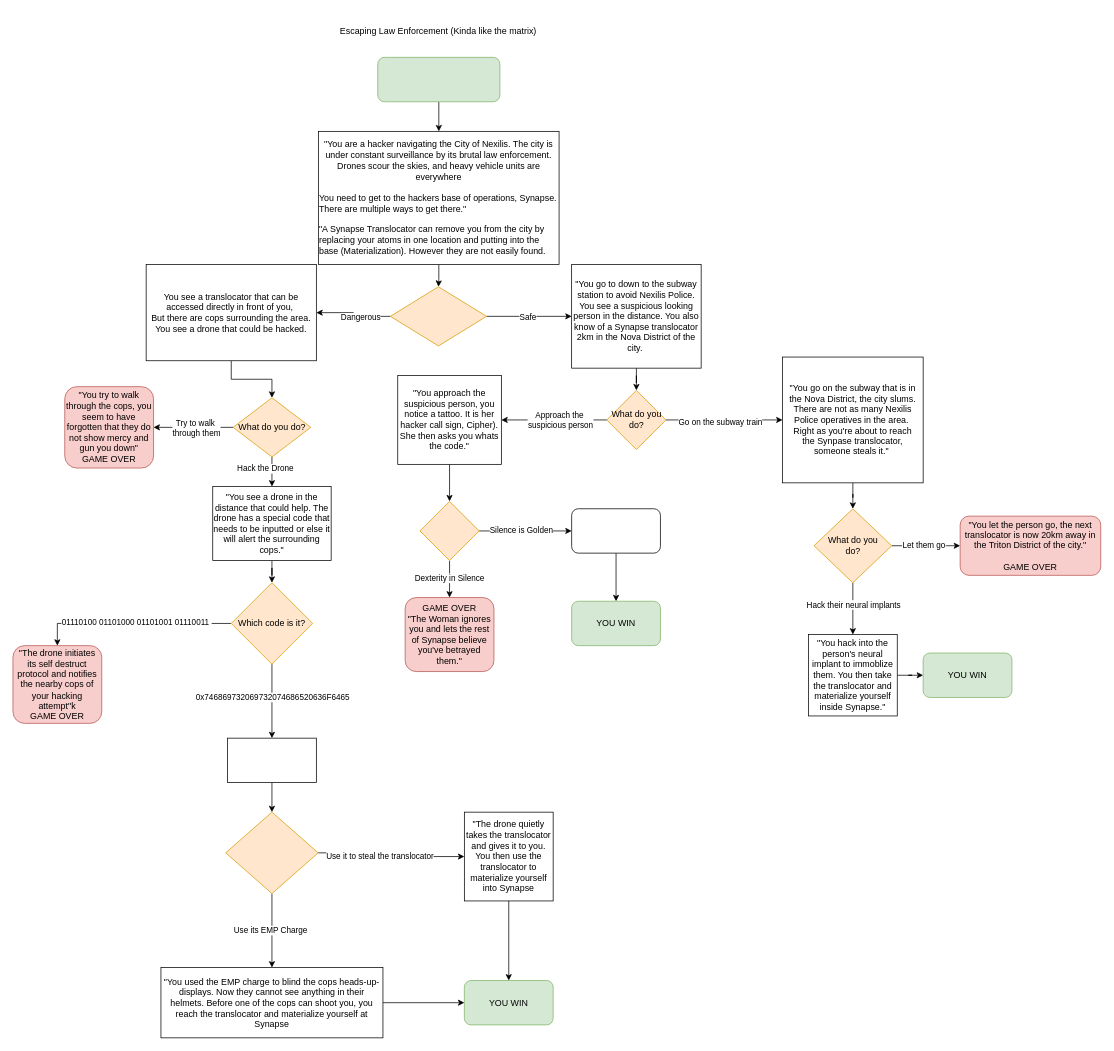
Some shapes in this 1114 by 1051 pixel diagram are drawn without their labels. The centre of each missing label's shape, as x and y in pixels:
"The women hands you an translocator and you materialize inside Synapse": [615,530]
Start: [438,79]
what do you want to do with it?: [271,852]
What is the Code?: [449,531]
What is your approach?: [438,316]
You successfully hacked the drone,: [271,760]
